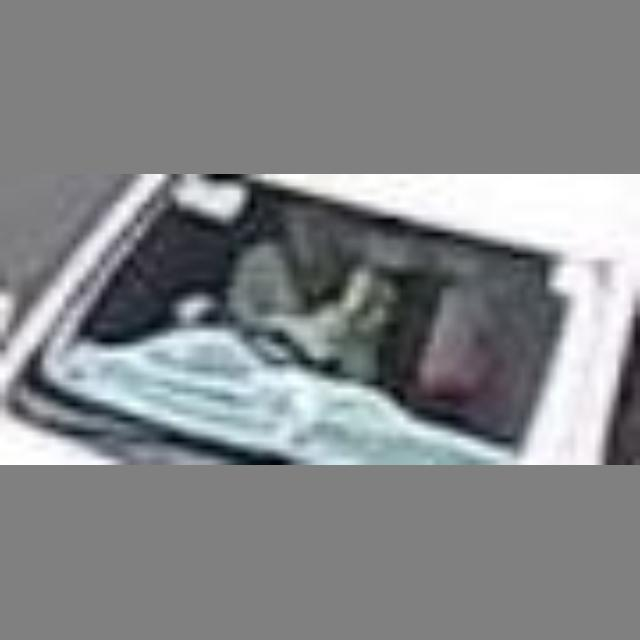pakai: (164, 224, 391, 402)
